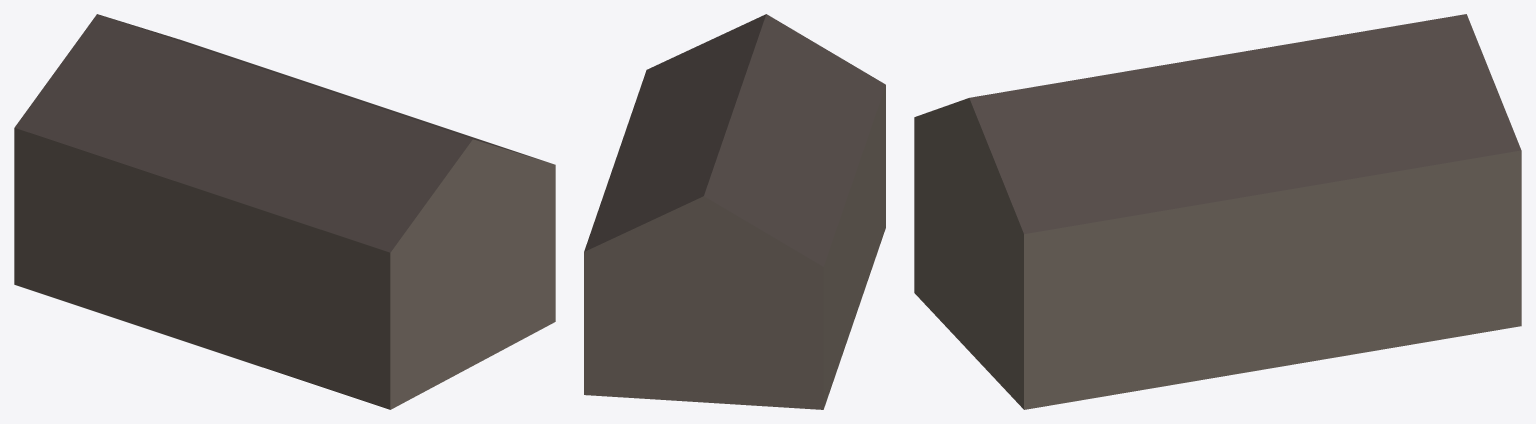
3 renders of one model, left to right at view 1: azimuth 30°, elevation 25°; view 2: azimuth 150°, elevation 25°; view 3: azimuth 270°, elevation 25°, orthographic. The views are drawn at different scales.
Parts seen in each view (by area): view 1: HP-w1202494174; view 2: HP-w1202494174; view 3: HP-w1202494174.
Boxes of the visible parts, x1,y1,x2,y2 form: HP-w1202494174: (14,14,555,409); HP-w1202494174: (584,14,885,409); HP-w1202494174: (914,14,1521,409).
Bounding box in the file's own units: 14.7 × 8.66 × 18.78.
